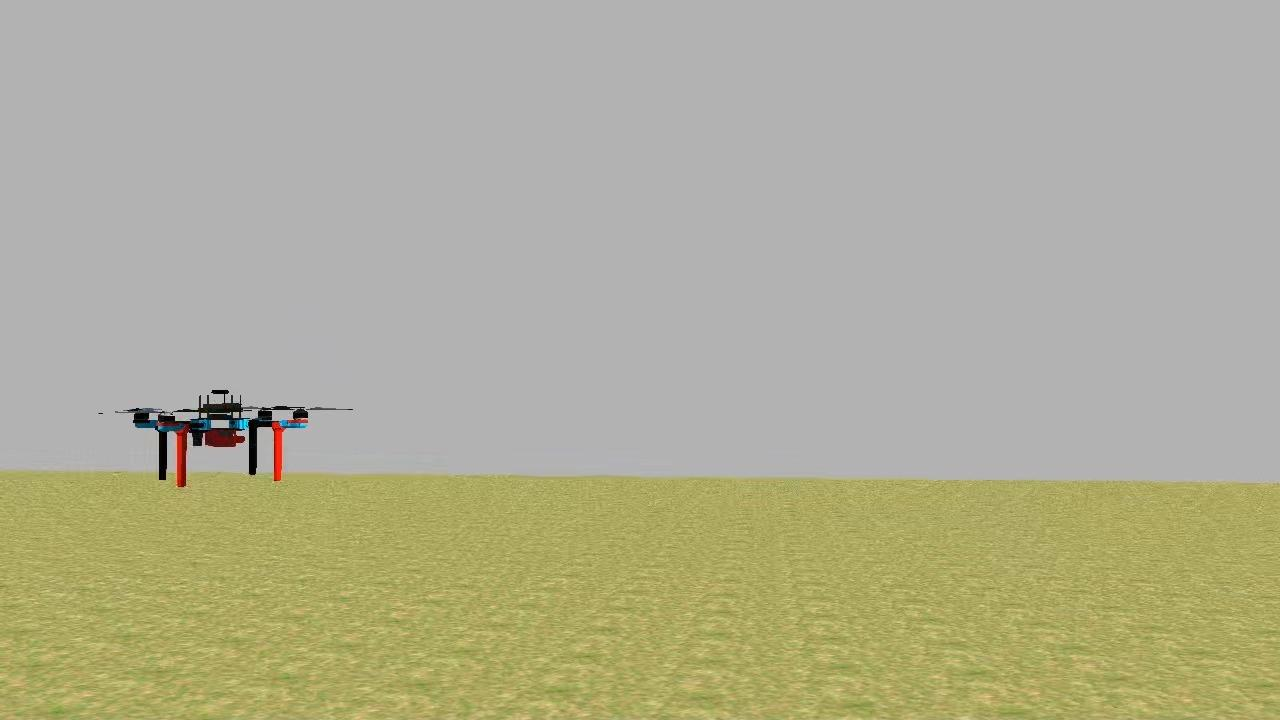UAV: (120, 380, 318, 496)
